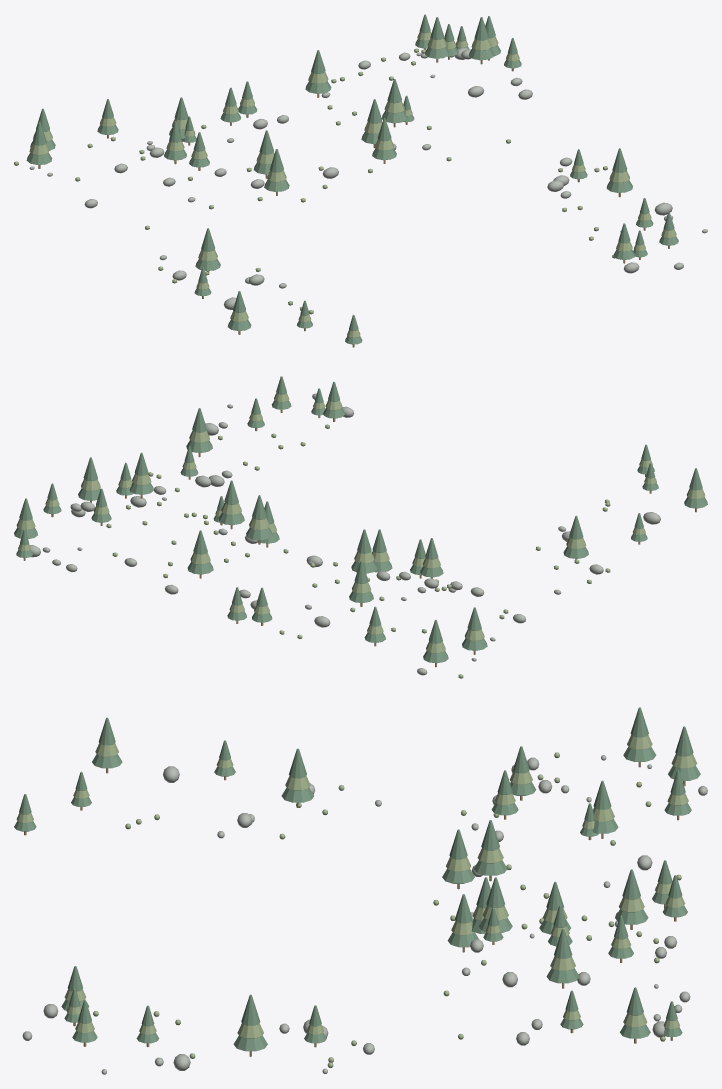
Rendered from SM_Vegetation.fbx.
3 views of the same model, one above another, from view 1: azimuth 30°, elevation 25°; view 2: azimuth 150°, elevation 25°; view 3: azimuth 270°, elevation 25° (orthographic). The views are drawn at different scales.
Parts seen in each view (by area): view 1: SM_Vegetation; view 2: SM_Vegetation; view 3: SM_Vegetation.
Part boxes in pixels (x1,y1,x2,y2): SM_Vegetation: (14,14,707,347); SM_Vegetation: (14,376,707,678); SM_Vegetation: (14,707,707,1074).
Bounding box in the file's own units: 9474 × 9395 × 2071.
